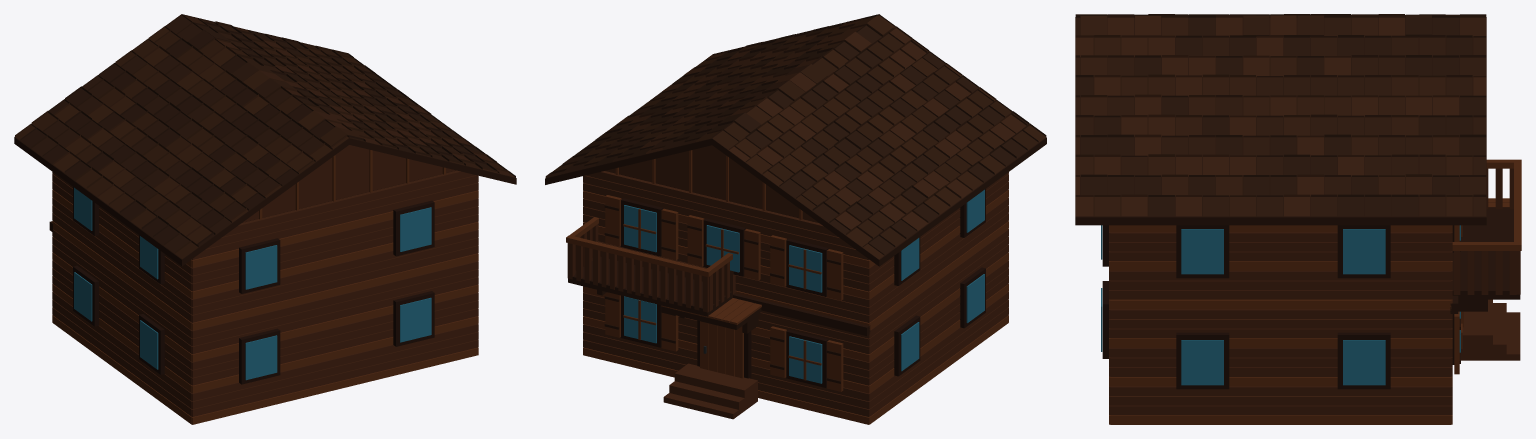
File: Baita_Legno_Scuro.obj
The picture shows the model from 3 angles, left to right: view 1: azimuth 30°, elevation 25°; view 2: azimuth 150°, elevation 25°; view 3: azimuth 270°, elevation 25°; orthographic projection. The views are drawn at different scales.
Visible parts, largest first — view 1: HorizontalTimbers, WoodShingles, WoodGables, RearGlass, WoodRoof, RearWindowFrame, SideGlass, SideWindowFrame, GableBoards; view 2: WoodShingles, HorizontalTimbers, WoodShutters, WindowGlass, WoodGables, BalconyBaluster, WoodRoof, WoodEntranceSteps, WindowFrame, SideGlass, DoorPlank, SideWindowFrame (+11 smaller); view 3: WoodShingles, HorizontalTimbers, WoodRoof, SideGlass, SideWindowFrame, BalconyDeck, WoodEntranceSteps, BalconySideBaluster, BalconySideRail, RearWindowFrame, BalconyTopRail, WoodShutters.
Boxes of the visible parts, x1,y1,x2,y2 form: HorizontalTimbers: (52, 170, 478, 424); WoodShingles: (15, 14, 515, 258); WoodGables: (243, 145, 456, 222); RearGlass: (245, 207, 431, 380); WoodRoof: (14, 137, 516, 266); RearWindowFrame: (239, 200, 434, 384); SideGlass: (74, 187, 158, 369); SideWindowFrame: (73, 187, 164, 374); GableBoards: (259, 149, 445, 219); WoodShingles: (545, 14, 1046, 258); HorizontalTimbers: (583, 171, 1008, 424); WoodShutters: (605, 195, 843, 391); WindowGlass: (624, 205, 822, 383); WoodGables: (605, 145, 818, 222); BalconyBaluster: (567, 243, 709, 312); WoodRoof: (545, 137, 1046, 266); WoodEntranceSteps: (663, 363, 757, 419); WindowFrame: (621, 198, 828, 387); SideGlass: (901, 189, 984, 371); DoorPlank: (700, 321, 743, 378); SideWindowFrame: (894, 189, 985, 376); WoodShingles: (1075, 14, 1486, 216); HorizontalTimbers: (1109, 225, 1452, 424); WoodRoof: (1075, 17, 1486, 225); SideGlass: (1181, 229, 1385, 385); SideWindowFrame: (1176, 225, 1390, 389); BalconyDeck: (1452, 207, 1520, 299); WoodEntranceSteps: (1461, 299, 1520, 360); BalconySideBaluster: (1453, 168, 1516, 294); BalconySideRail: (1452, 159, 1520, 250); RearWindowFrame: (1102, 225, 1108, 358); BalconyTopRail: (1514, 159, 1521, 250); WoodShutters: (1454, 225, 1459, 374).
Bounding box in the file's own units: 9.1 × 6.88 × 8.58.
